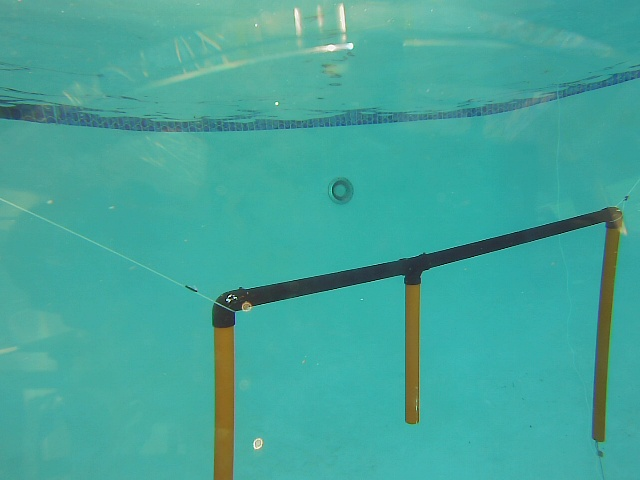Gate: (585, 219, 625, 442), (212, 319, 240, 480), (402, 273, 421, 425)
